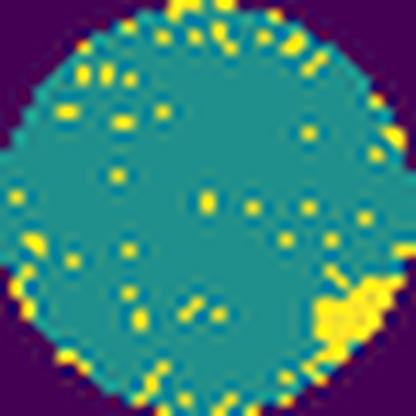Edge-Loc: (298, 263, 404, 389)
